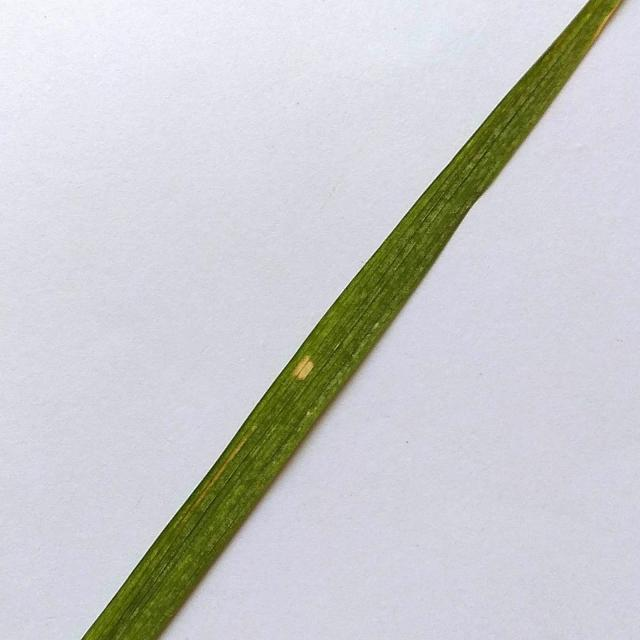Leaf_Blast: (260, 336, 357, 471)
